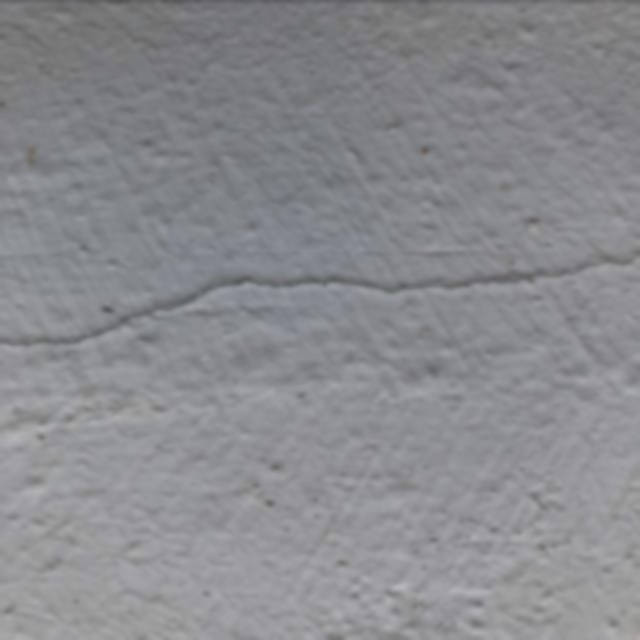SurfaceCrack: (1, 197, 640, 386)
